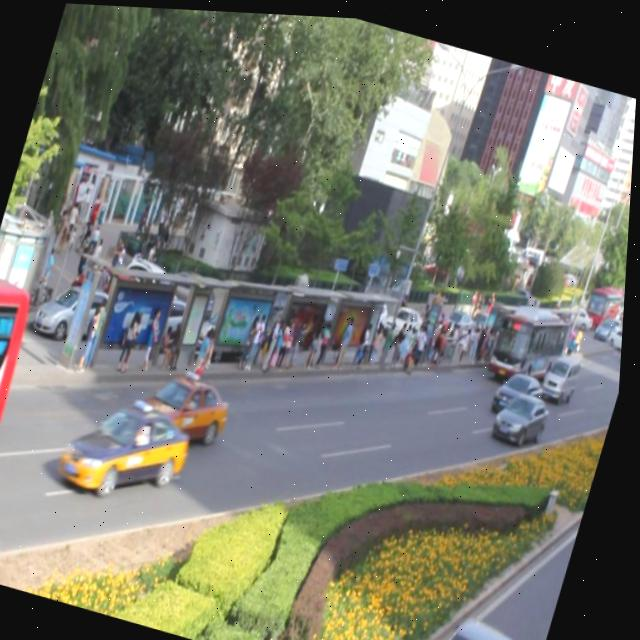car: (57, 385, 201, 512), (128, 359, 240, 452), (492, 379, 555, 443), (492, 359, 551, 419)
truck: (542, 342, 587, 396)
van: (0, 267, 44, 449), (489, 290, 576, 382)
